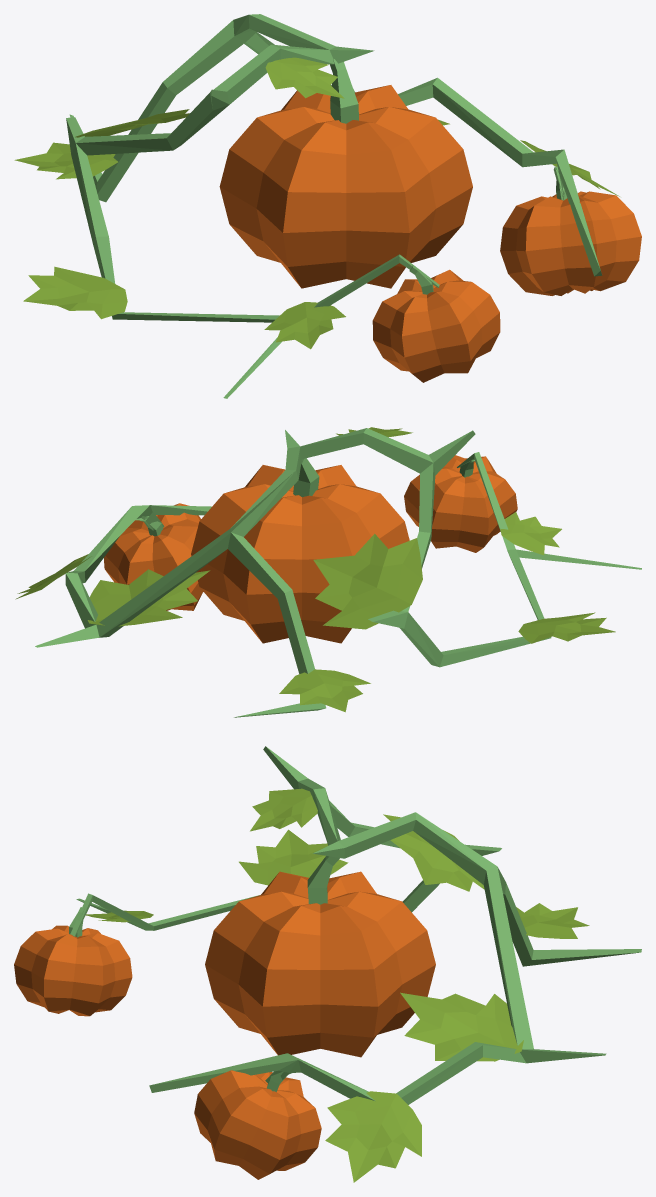
Rendered from env_pumpkin.fbx.
The picture shows the model from 3 angles, top to bottom: view 1: azimuth 30°, elevation 25°; view 2: azimuth 150°, elevation 25°; view 3: azimuth 270°, elevation 25°; orthographic projection. The views are drawn at different scales.
Parts seen in each view (by area): view 1: Pumpkin; view 2: Pumpkin; view 3: Pumpkin.
Boxes of the visible parts, bbox=[...] form: Pumpkin: bbox=[14, 14, 641, 398]; Pumpkin: bbox=[15, 427, 641, 717]; Pumpkin: bbox=[14, 746, 641, 1182].
Bounding box in the file's own units: 541 × 238 × 508.
